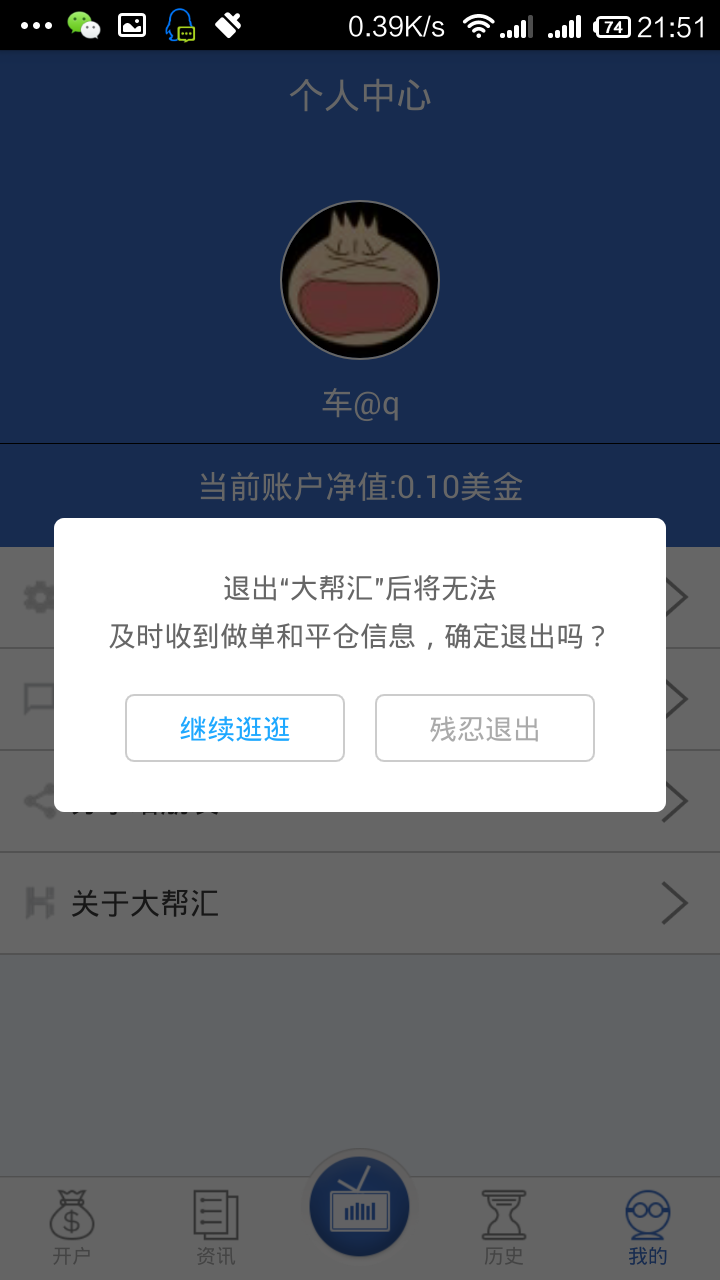alert: (45, 510, 675, 818)
button: (113, 679, 352, 773), (366, 685, 601, 772)
textview: (89, 563, 613, 664)
